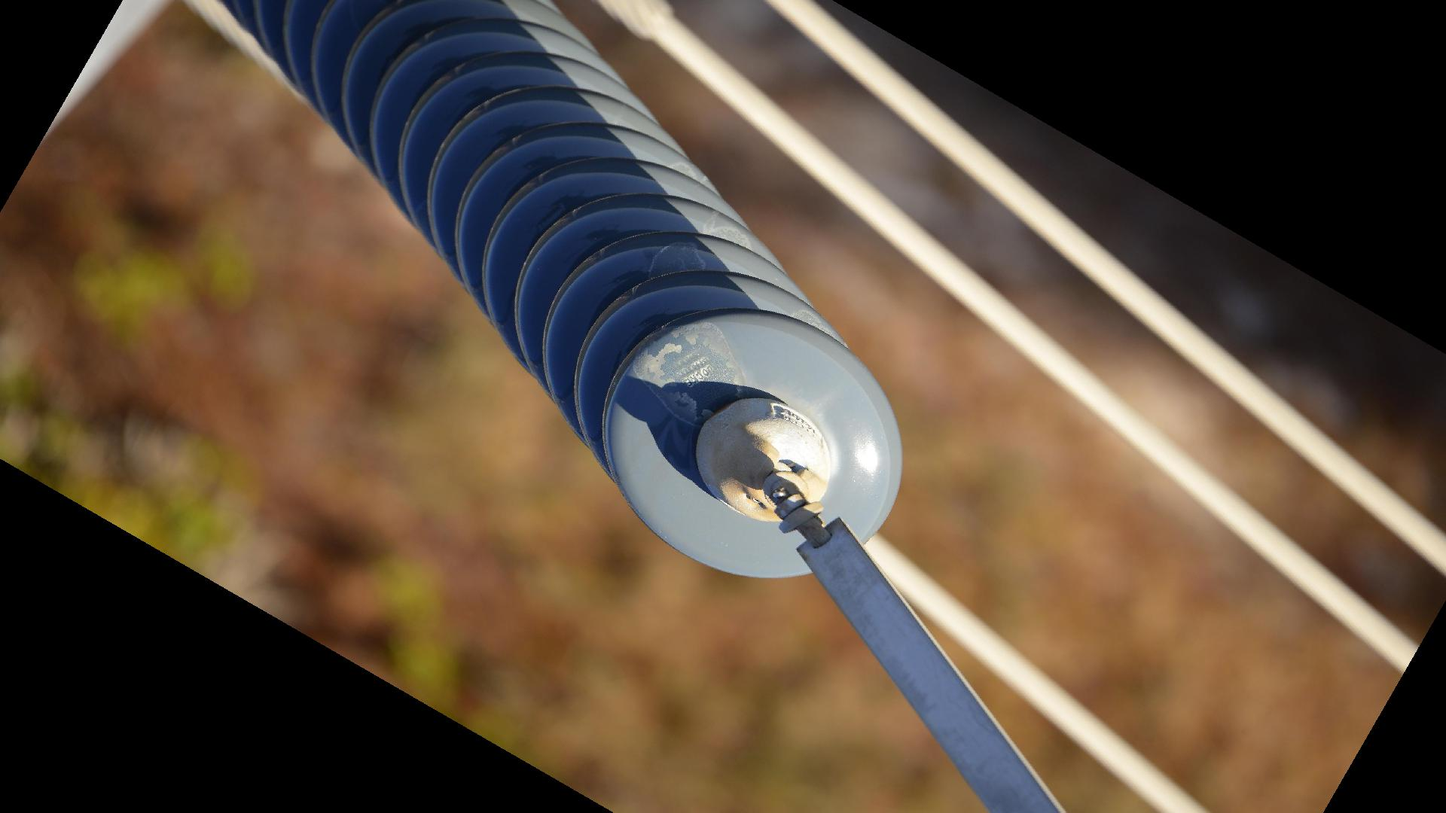insulator: (229, 1, 909, 589)
insulator_flashover: (630, 315, 748, 431)
